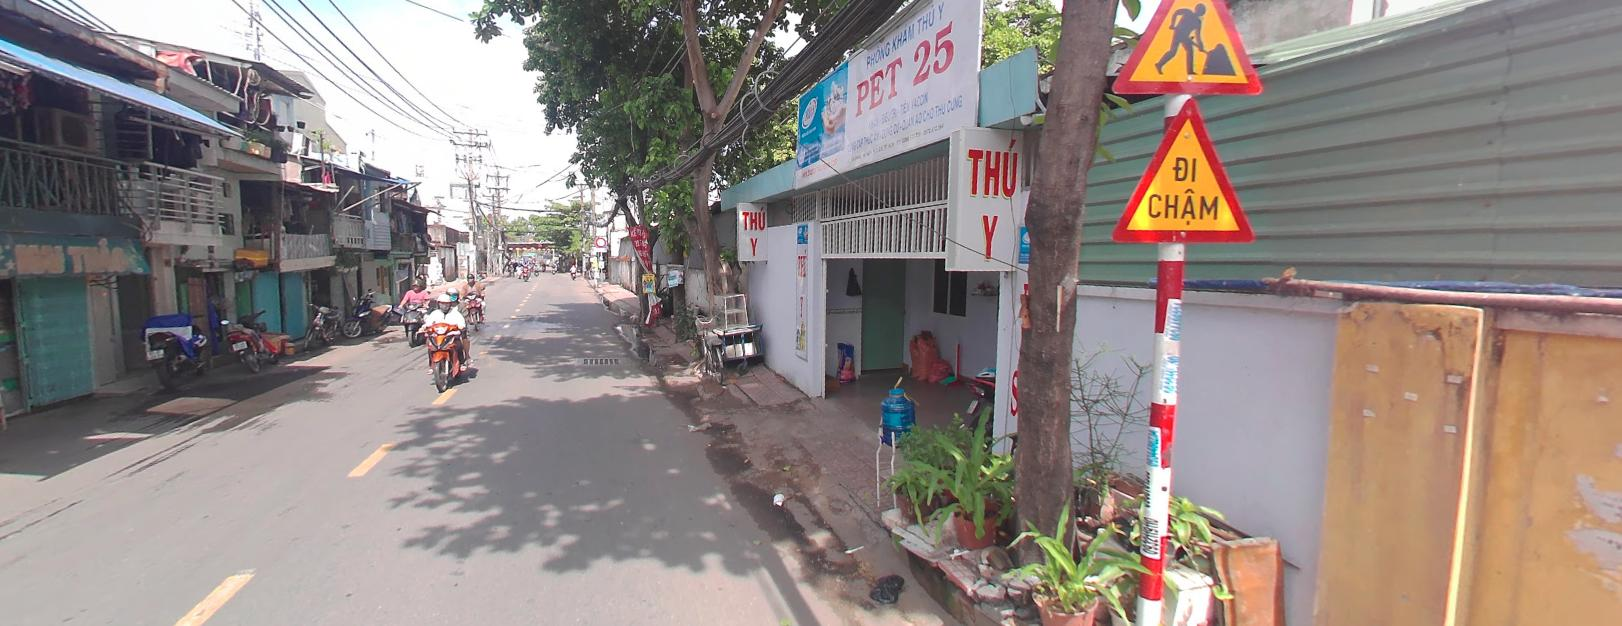Cam con lai: (595, 236, 605, 246)
